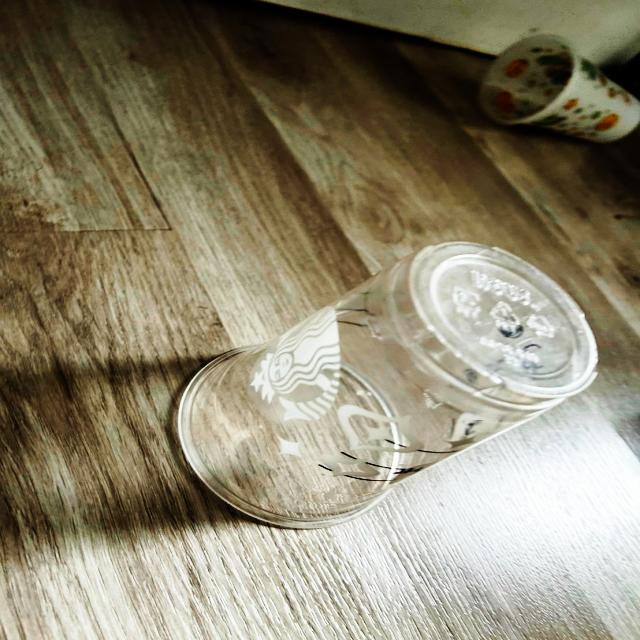Plastic Cup: (177, 242, 597, 529), (481, 40, 639, 146)
